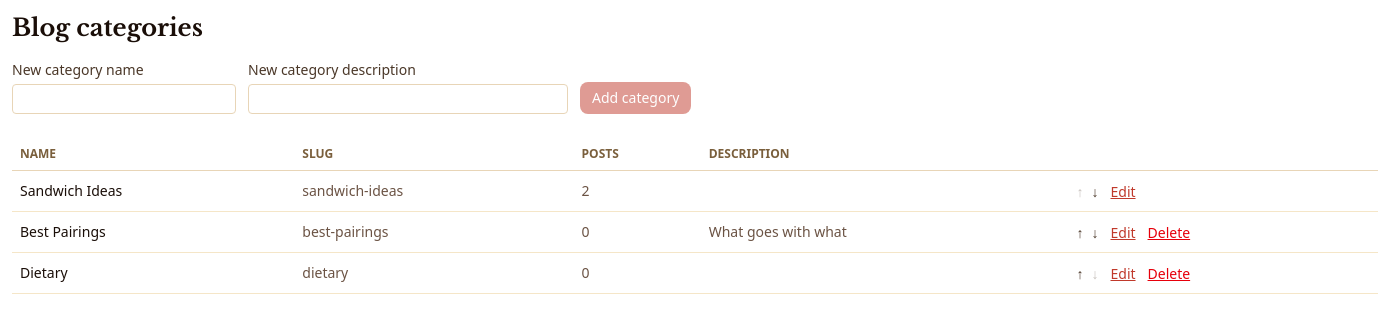
Test: BlogCategoriesPage editing › renames a category and edits its description
Expected: the text "Sandwich Ideas" is shown, x1=12 y1=170 x2=294 y2=212
Click the button with aria-label "Edit Dietary": (1123,274) x1=1110 y1=264 x2=1136 y2=284
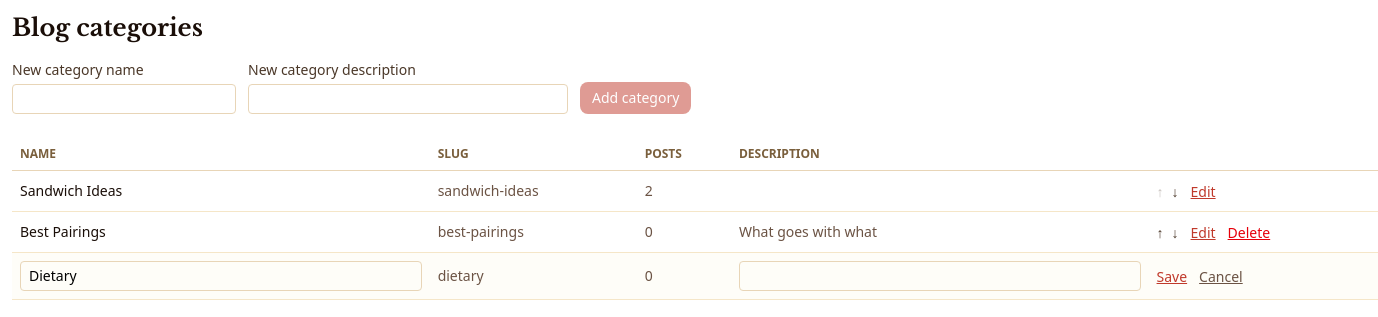
Replace the text in the field named "Name" with "Diets": (221,276) x1=20 y1=261 x2=422 y2=291
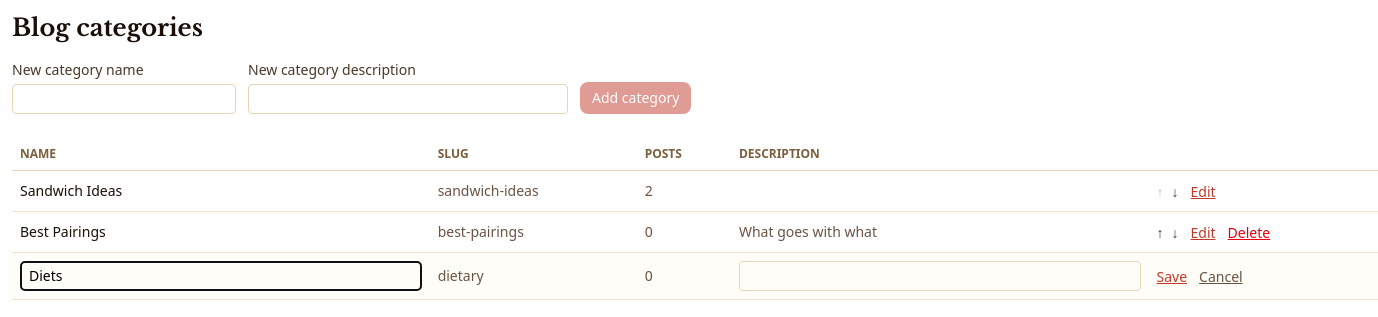
In the field named "Description": (940,276) x1=739 y1=261 x2=1140 y2=291, type "Vegan and more"
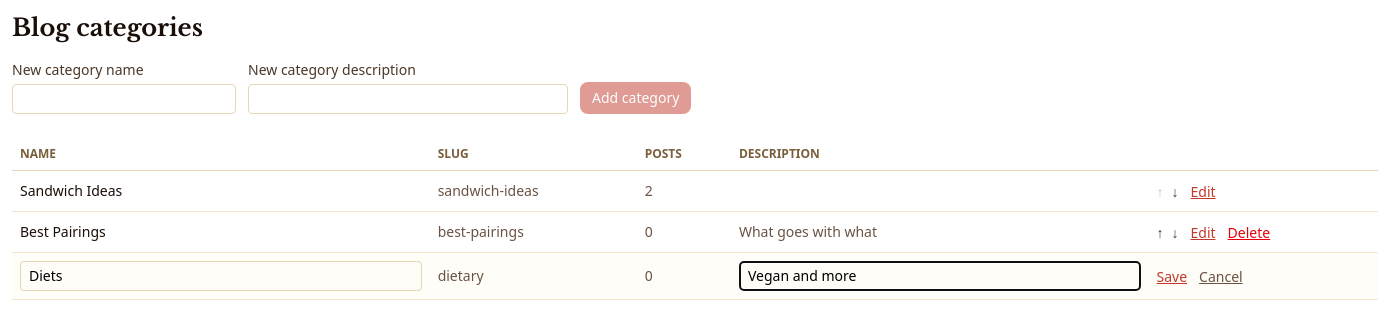
Click the button "Save": (1172,277) x1=1156 y1=267 x2=1187 y2=287
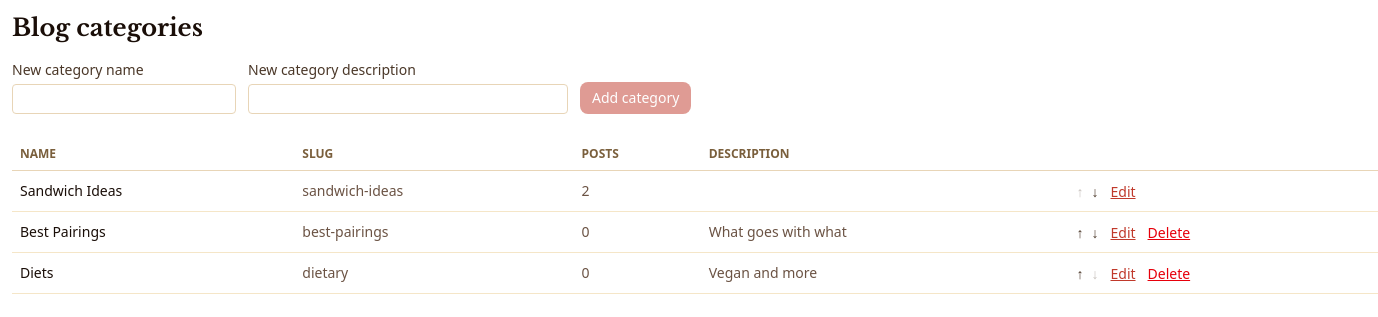
Result: the text "Diets" is shown at x1=12 y1=252 x2=294 y2=294
